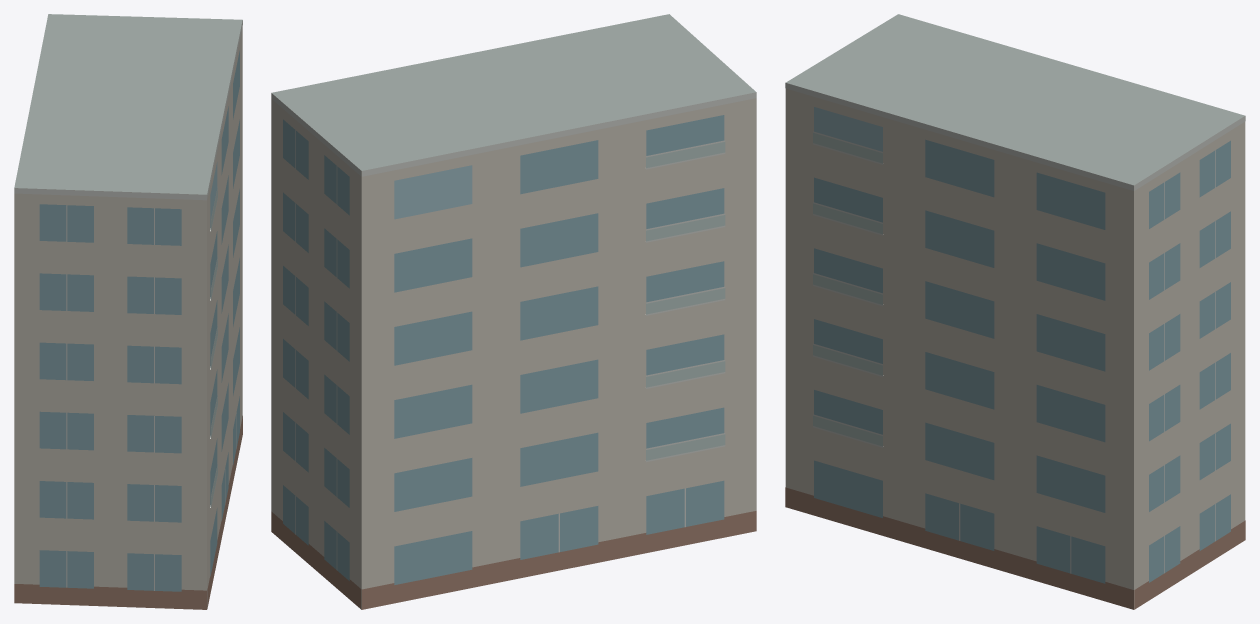
The model's file is survey-upis-32996494.glb.
3 views of the same model, side by side, from view 1: azimuth 30°, elevation 25°; view 2: azimuth 150°, elevation 25°; view 3: azimuth 270°, elevation 25° (orthographic). The views are drawn at different scales.
Parts seen in each view (by area): view 1: survey-upis-32996494.tmp; view 2: survey-upis-32996494.tmp; view 3: survey-upis-32996494.tmp.
Boxes of the visible parts, x1,y1,x2,y2 form: survey-upis-32996494.tmp: (14, 14, 242, 609); survey-upis-32996494.tmp: (271, 14, 756, 609); survey-upis-32996494.tmp: (785, 14, 1245, 609).
Bounding box in the file's own units: 15.87 × 18.3 × 17.98.
